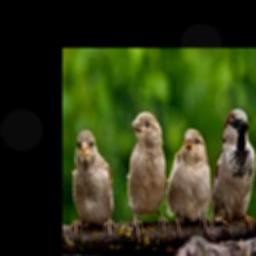Sparrow: (212, 107, 256, 231), (127, 111, 168, 240), (71, 129, 115, 240), (166, 128, 211, 230)
